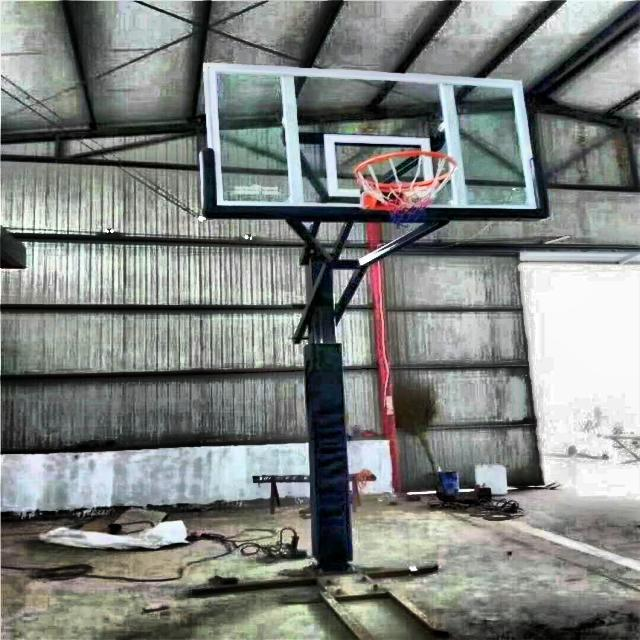rim: (355, 150, 459, 225)
